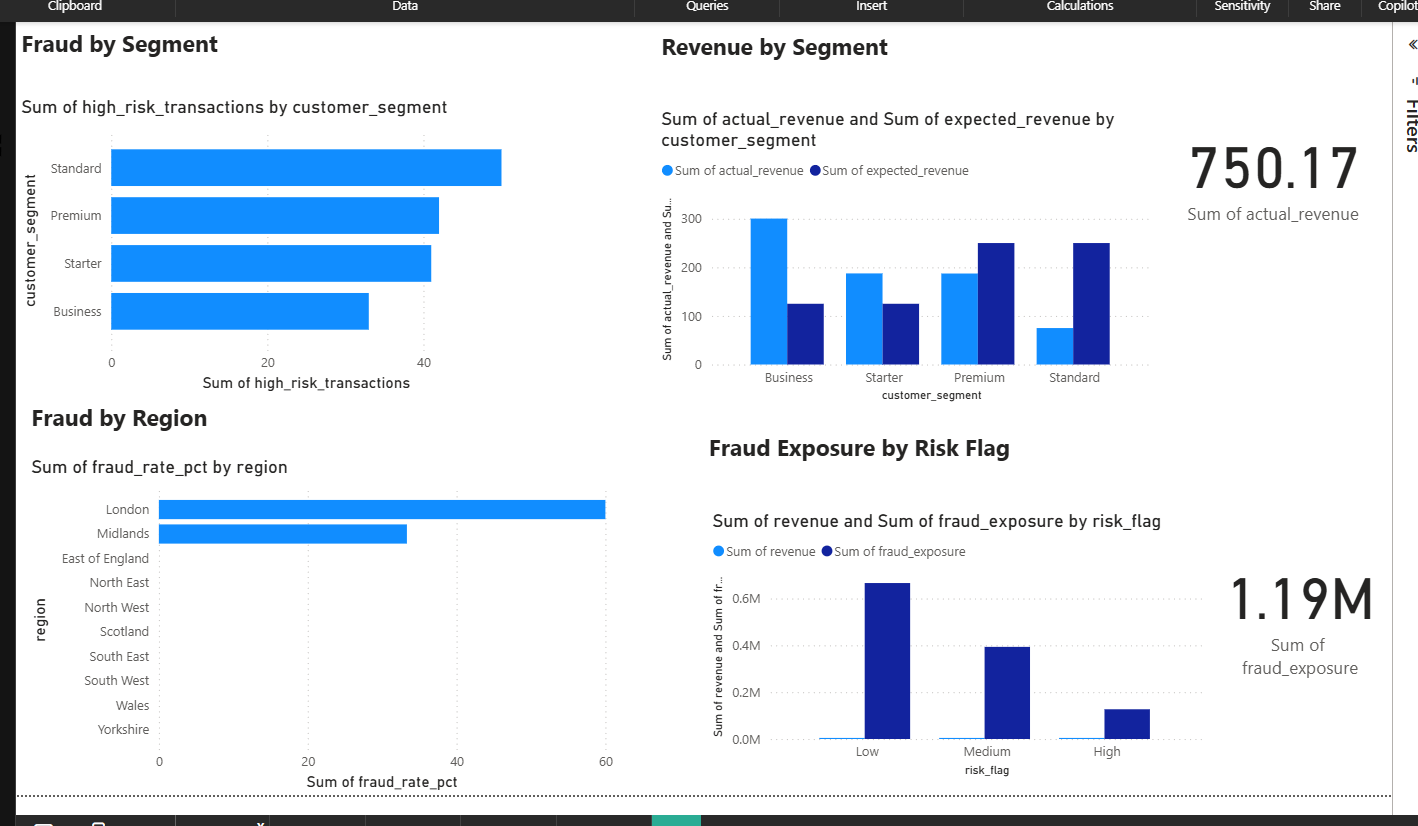

The dashboard page shown, as its layout file describes it:
{"tool":"powerbi","page":{"name":"Page 1","canvas":[1280,720],"ordinal":0},"visuals":[{"type":"clusteredBarChart","fields":{"Category":["Q1.customer_segment"],"Y":["Sum(Q1.high_risk_transactions)"]},"box":[0,68.6,463.8,279.9],"z":0},{"type":"textbox","box":[0,0,463.8,57.6],"z":1000},{"type":"textbox","box":[595.8,2.6,465.7,52],"z":2000},{"type":"clusteredColumnChart","fields":{"Category":["Q2.customer_segment"],"Y":["Sum(Q2.actual_revenue)","Sum(Q2.expected_revenue)"]},"box":[595.8,80.7,465.7,278.4],"z":3000},{"type":"card","fields":{"Values":["Sum(Q2.actual_revenue)"]},"box":[1060.5,0,218.6,279.1],"z":4000},{"type":"textbox","box":[639.5,375.6,398.8,55.8],"z":5000},{"type":"clusteredColumnChart","fields":{"Category":["Q3.risk_flag"],"Y":["Sum(Q3.revenue)","Sum(Q3.fraud_exposure)"]},"box":[643,453.5,466.3,253.5],"z":6000},{"type":"card","fields":{"Values":["Sum(Q3.fraud_exposure)"]},"box":[1109.3,414,170.9,252.3],"z":7000},{"type":"clusteredBarChart","fields":{"Category":["Q4.region"],"Y":["Sum(Q4.fraud_rate_pct)"]},"box":[9.3,403.5,551.2,316.3],"z":8000},{"type":"textbox","box":[9.3,347.7,222.1,52.3],"z":9000}]}

Visuals, with their boxes on the page's 1280x720 design canvas (x1, y1, x2, y2). These are canvas units, not pixel positions in the 1418x826 screenshot, which may show the page scaled, cropped or inside an application window:
clusteredBarChart - Q1.customer_segment x Sum(Q1.high_risk_transactions): (left=0, top=69, right=464, bottom=348)
textbox: (left=0, top=0, right=464, bottom=58)
textbox: (left=596, top=3, right=1062, bottom=55)
clusteredColumnChart - Q2.customer_segment x Sum(Q2.actual_revenue): (left=596, top=81, right=1062, bottom=359)
card - Sum(Q2.actual_revenue): (left=1060, top=0, right=1279, bottom=279)
textbox: (left=640, top=376, right=1038, bottom=431)
clusteredColumnChart - Q3.risk_flag x Sum(Q3.revenue): (left=643, top=454, right=1109, bottom=707)
card - Sum(Q3.fraud_exposure): (left=1109, top=414, right=1280, bottom=666)
clusteredBarChart - Q4.region x Sum(Q4.fraud_rate_pct): (left=9, top=404, right=560, bottom=720)
textbox: (left=9, top=348, right=231, bottom=400)
